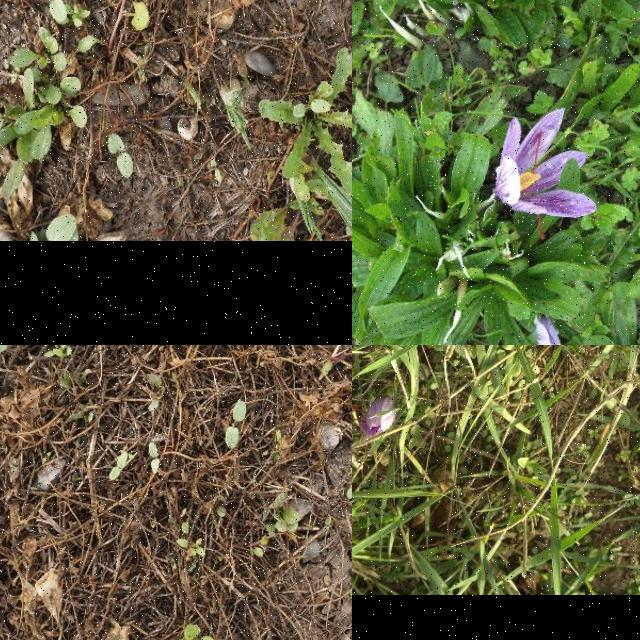flower: (495, 109, 599, 241), (352, 399, 396, 437)
